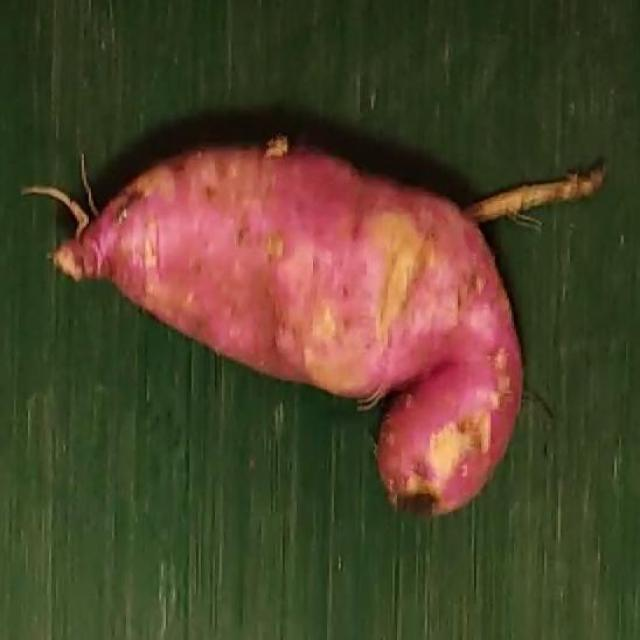Sweet Potato: (48, 137, 598, 521)
